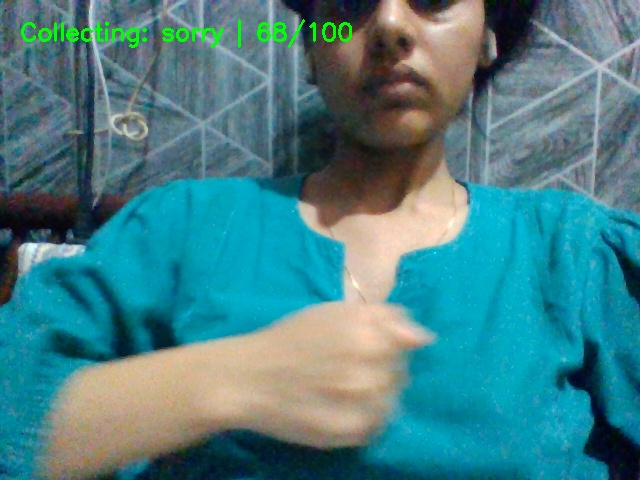sorry: (213, 264, 459, 463)
